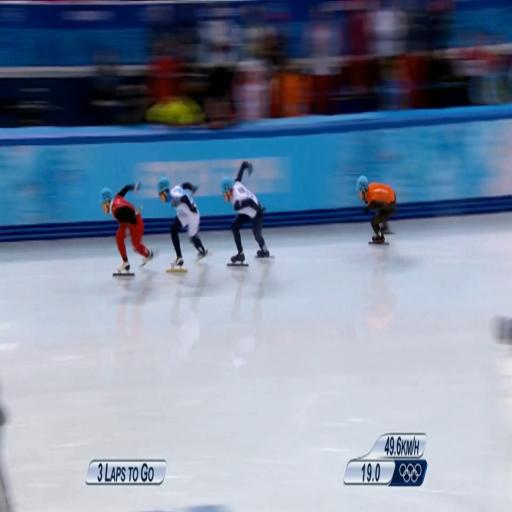Skater: (222, 162, 270, 264), (101, 183, 153, 274), (158, 177, 207, 271), (357, 176, 396, 244)
